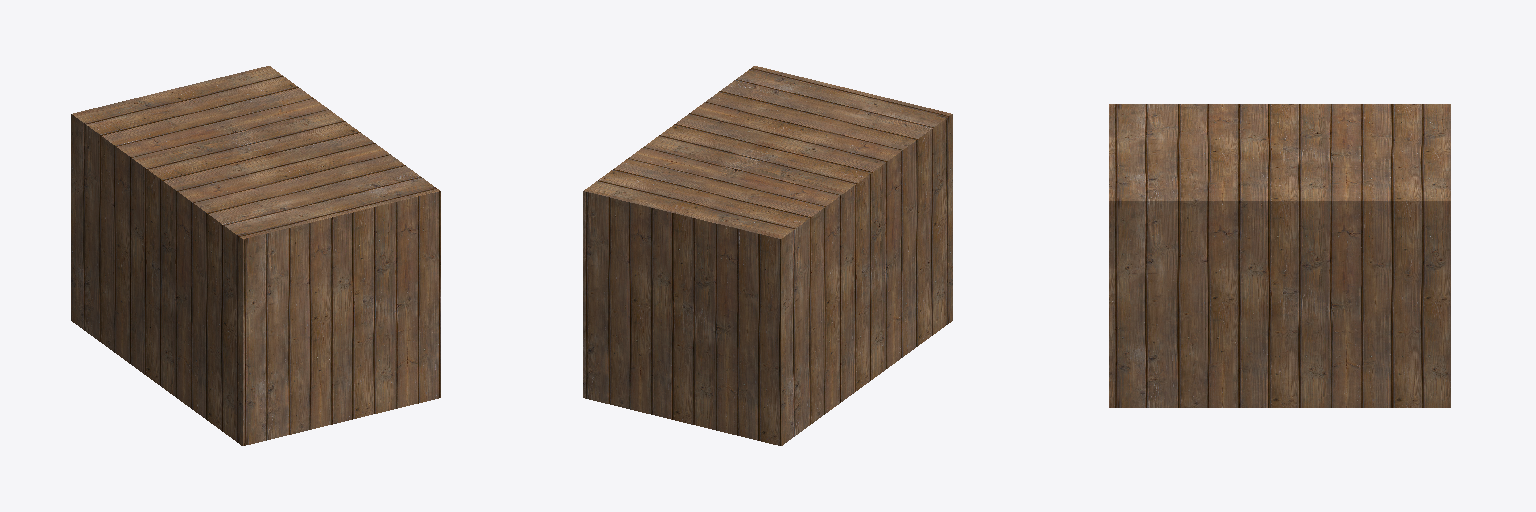
3 renders of one model, left to right at view 1: azimuth 30°, elevation 25°; view 2: azimuth 150°, elevation 25°; view 3: azimuth 270°, elevation 25°, orthographic.
Parts seen in each view (by area): view 1: Cube.001; view 2: Cube.001; view 3: Cube.001.
Part boxes in pixels (left/top/right/bottom): Cube.001: left=71, top=66, right=440, bottom=445; Cube.001: left=583, top=66, right=952, bottom=445; Cube.001: left=1109, top=104, right=1450, bottom=407.
Bounding box in the file's own units: 5 × 5 × 7.5.
Materials: 1 (1 with a texture image).